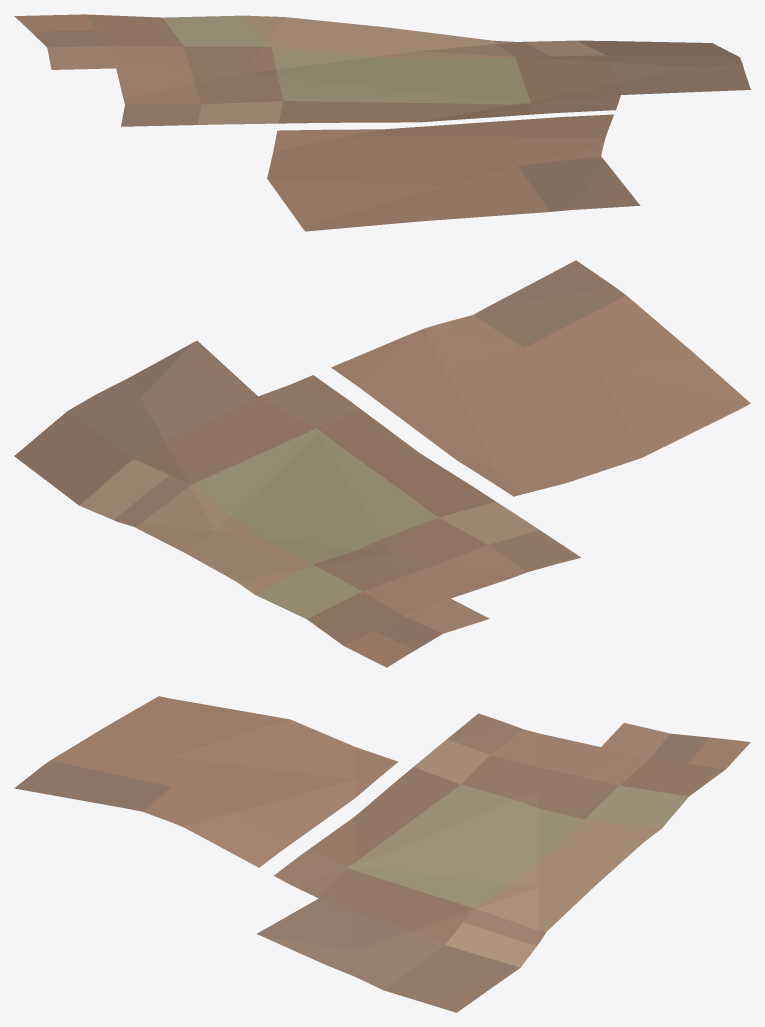
The model's file is farm_1_17_soil.glb.
3 renders of one model, top to bottom at view 1: azimuth 30°, elevation 25°; view 2: azimuth 150°, elevation 25°; view 3: azimuth 270°, elevation 25°, orthographic. The views are drawn at different scales.
Parts seen in each view (by area): view 1: geometry_0; view 2: geometry_0; view 3: geometry_0.
Boxes of the visible parts, x1=… form: geometry_0: x1=14, y1=14, x2=750, y2=231; geometry_0: x1=14, y1=260, x2=750, y2=667; geometry_0: x1=14, y1=696, x2=750, y2=1012.
Size of the model in its own units: 262 by 40.6 by 320.
